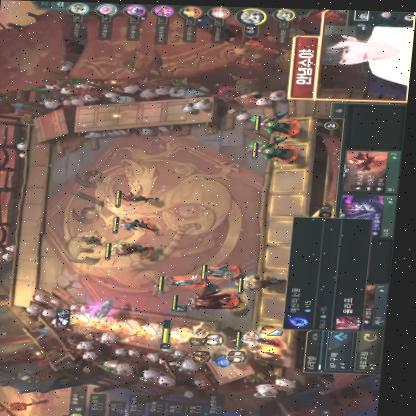streamer: (318, 23, 412, 84)
